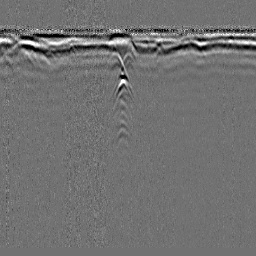cavity: (121, 48, 136, 64)
